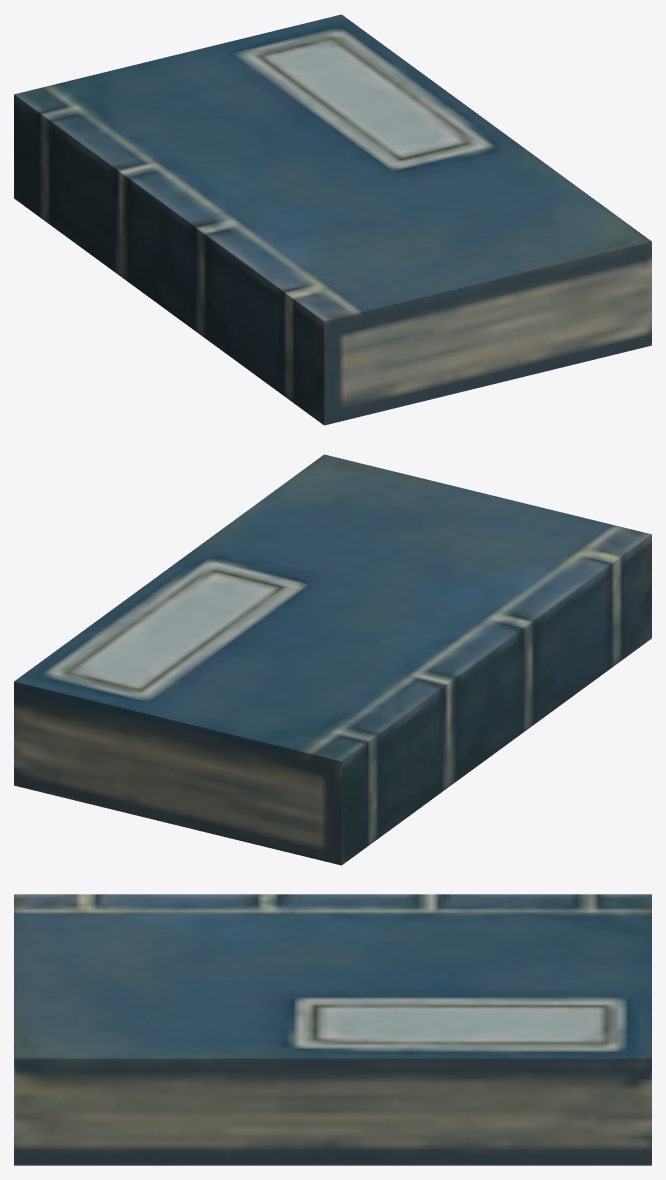
The model's file is Stage_DiXiaCheng_Shu01.FBX.
3 views of the same model, one above another, from view 1: azimuth 30°, elevation 25°; view 2: azimuth 150°, elevation 25°; view 3: azimuth 270°, elevation 25° (orthographic). The views are drawn at different scales.
Parts seen in each view (by area): view 1: Stage_DiXiaCheng_Shu01; view 2: Stage_DiXiaCheng_Shu01; view 3: Stage_DiXiaCheng_Shu01.
Boxes of the visible parts, left/top/right/bottom form: Stage_DiXiaCheng_Shu01: left=14, top=14, right=651, bottom=425; Stage_DiXiaCheng_Shu01: left=14, top=454, right=651, bottom=865; Stage_DiXiaCheng_Shu01: left=14, top=894, right=651, bottom=1165.
Size of the model in its own units: 42.52 by 12.9 by 69.72.
